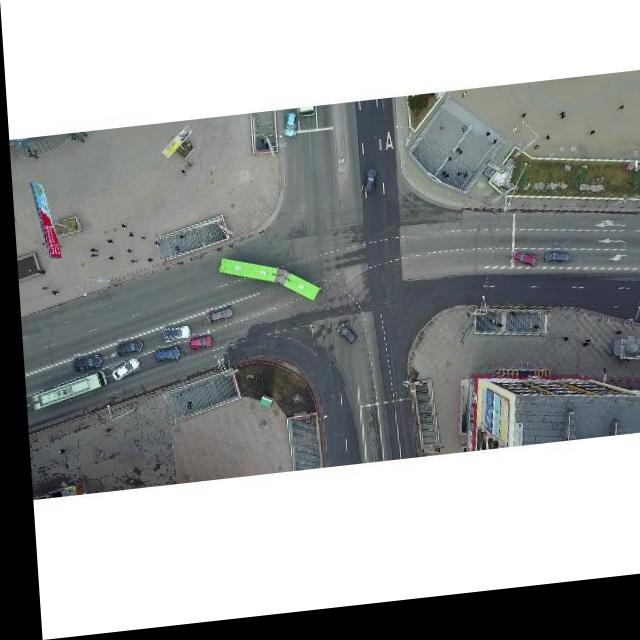vehicle: (105, 360, 137, 382), (66, 354, 99, 375), (158, 327, 187, 348), (148, 348, 177, 367), (506, 262, 535, 281), (332, 329, 353, 355), (111, 341, 139, 360), (184, 338, 210, 357), (202, 311, 229, 328), (359, 175, 376, 202), (281, 118, 298, 145), (540, 263, 567, 277)
